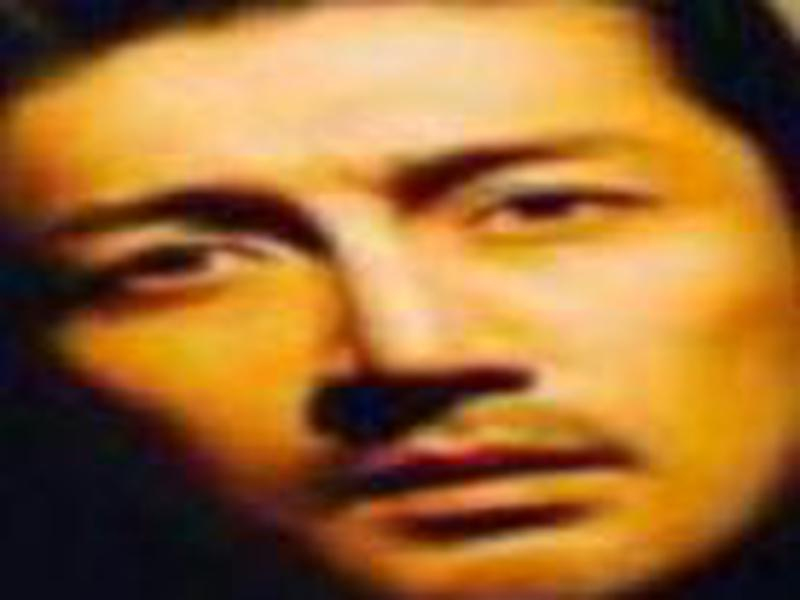without_mask: (2, 4, 789, 593)
